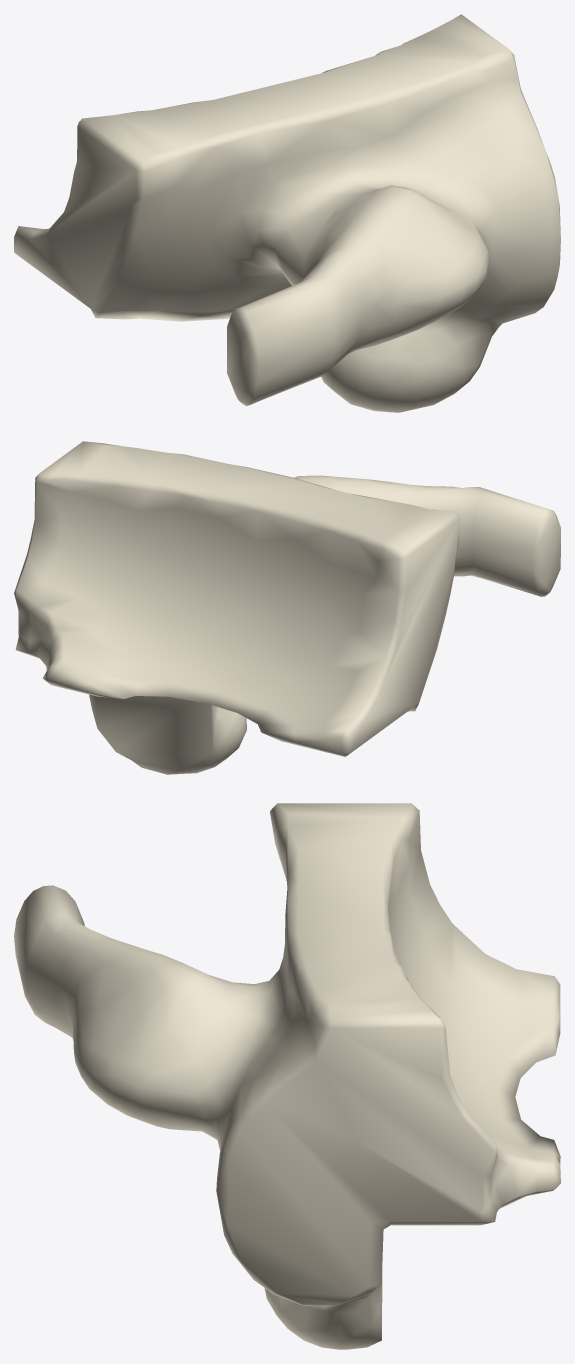
File: temporal_l.glb
3 views of the same model, one above another, from view 1: azimuth 30°, elevation 25°; view 2: azimuth 150°, elevation 25°; view 3: azimuth 270°, elevation 25° (orthographic). The views are drawn at different scales.
Parts seen in each view (by area): view 1: geometry_0; view 2: geometry_0; view 3: geometry_0.
Part boxes in pixels (x1=…): geometry_0: x1=14, y1=14, x2=560, y2=412; geometry_0: x1=14, y1=441, x2=560, y2=774; geometry_0: x1=14, y1=803, x2=560, y2=1349.
Size of the model in its own units: 0.205 by 0.1628 by 0.215.
